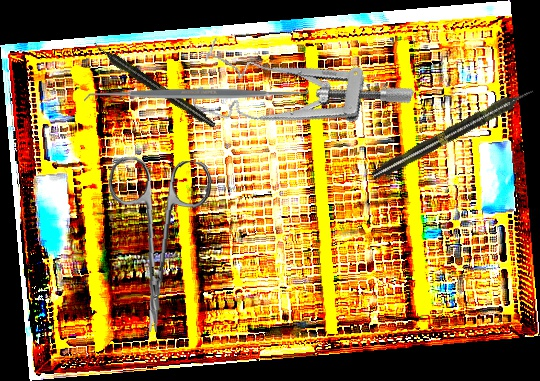Handpiece: (369, 83, 537, 184), (90, 39, 218, 131)
Iris Scissors: (98, 155, 213, 336)
Spatula Surgical: (84, 82, 309, 107)
Speculum: (188, 18, 416, 176)
